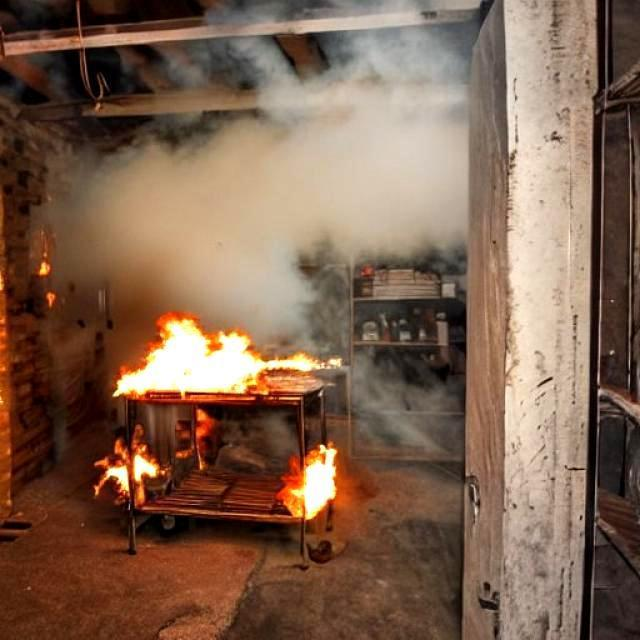Fire: (105, 312, 328, 406), (90, 430, 166, 508), (286, 442, 344, 524)
Smoke: (30, 1, 485, 306), (352, 359, 485, 553)
